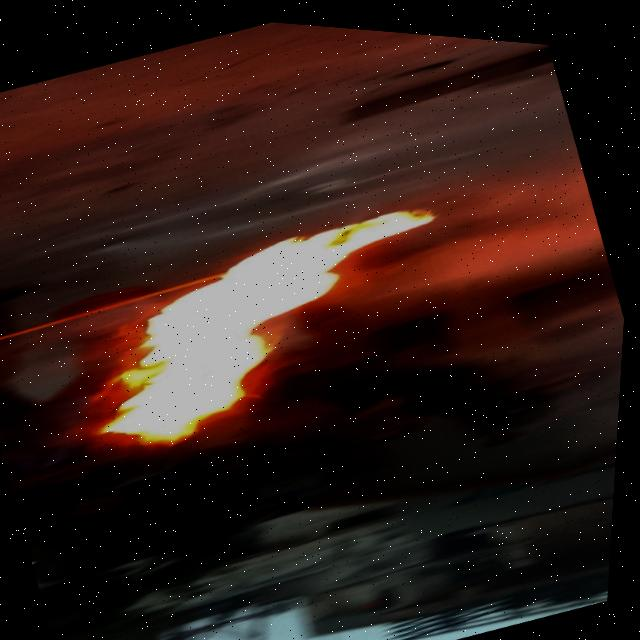Fire: (44, 167, 493, 488)
